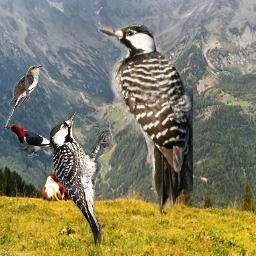Cuckoo: (5, 65, 43, 129)
Woodpecker: (98, 25, 193, 214), (49, 111, 113, 249), (1, 123, 64, 158)
